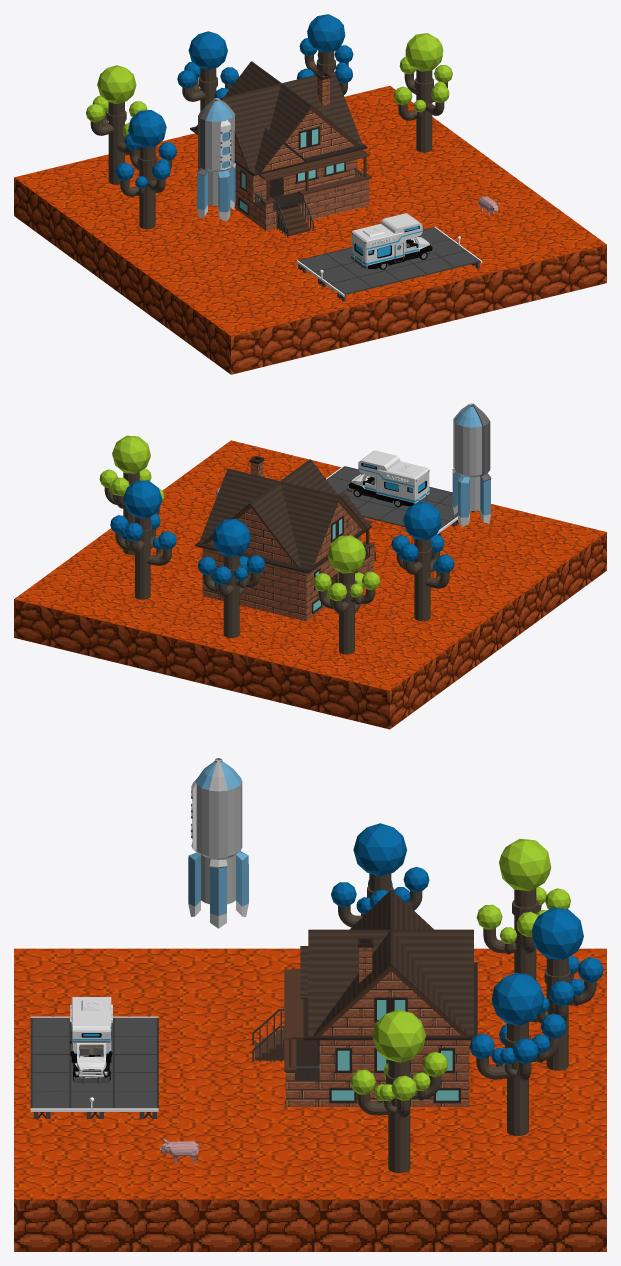
3 views of the same model, one above another, from view 1: azimuth 30°, elevation 25°; view 2: azimuth 150°, elevation 25°; view 3: azimuth 270°, elevation 25° (orthographic). The views are drawn at different scales.
Parts seen in each view (by area): view 1: Cube.001, Cube.469, OBJRANDOM_ROCKETSHIP, VEHICLES_CAMPER; view 2: Cube.001, Cube.469, OBJRANDOM_ROCKETSHIP, VEHICLES_CAMPER; view 3: Cube.001, Cube.469, OBJRANDOM_ROCKETSHIP, VEHICLES_CAMPER.
Boxes of the visible parts, x1,y1,x2,y2 form: Cube.001: (14, 14, 606, 374); Cube.469: (190, 61, 371, 237); OBJRANDOM_ROCKETSHIP: (197, 98, 235, 221); VEHICLES_CAMPER: (351, 213, 434, 269); Cube.001: (14, 435, 606, 729); Cube.469: (195, 456, 375, 621); OBJRANDOM_ROCKETSHIP: (452, 403, 491, 526); VEHICLES_CAMPER: (347, 450, 430, 507); Cube.001: (14, 823, 606, 1251); Cube.469: (252, 890, 477, 1106); OBJRANDOM_ROCKETSHIP: (188, 758, 248, 928); VEHICLES_CAMPER: (70, 997, 112, 1083).
Bounding box in the file's own units: 4000 × 2176 × 4000.
Materials: 39 (5 with a texture image).
